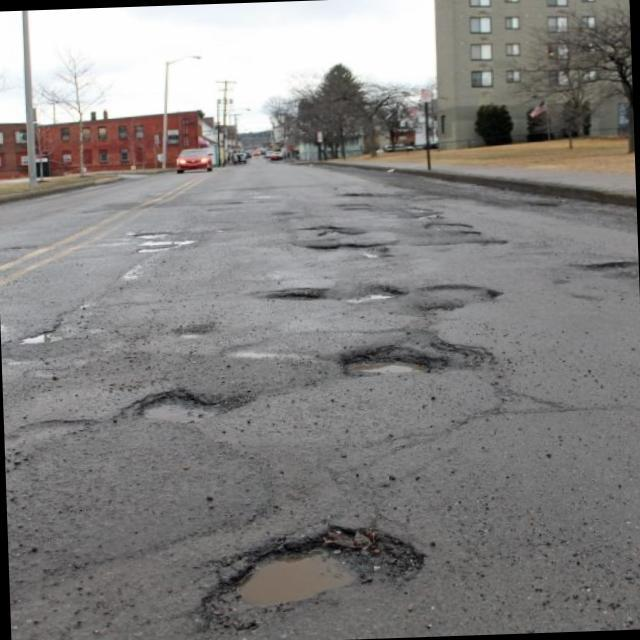Pothole: (155, 492, 468, 636), (322, 324, 512, 397), (113, 371, 260, 443), (296, 216, 413, 272), (3, 404, 96, 466), (208, 327, 328, 372), (236, 265, 342, 311), (10, 305, 95, 362), (124, 216, 208, 260), (328, 274, 412, 311), (563, 246, 639, 286), (416, 233, 518, 262), (170, 317, 218, 353), (423, 220, 478, 234)
